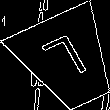L_SE: (40, 31, 95, 90)
